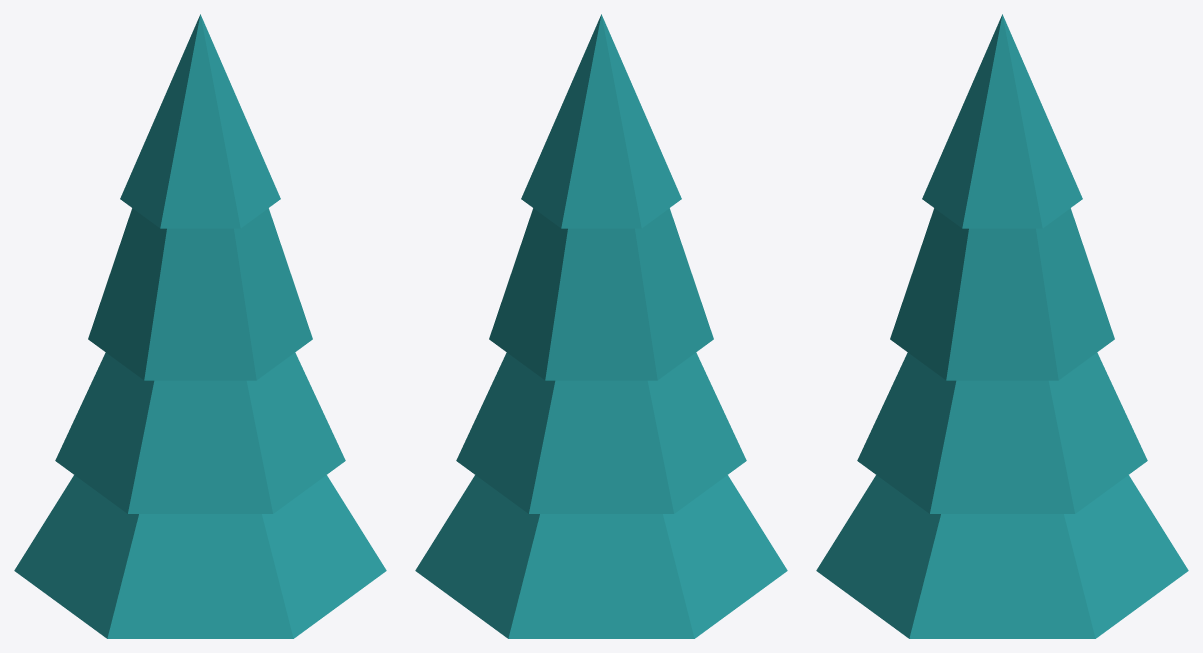
Rendered from tree_pineGroundA.fbx.
3 views of the same model, side by side, from view 1: azimuth 30°, elevation 25°; view 2: azimuth 150°, elevation 25°; view 3: azimuth 270°, elevation 25° (orthographic).
Visible parts, largest first — view 1: tree_pineGroundA; view 2: tree_pineGroundA; view 3: tree_pineGroundA.
Part boxes in pixels (<box>): tree_pineGroundA: <box>14,14,386,638</box>; tree_pineGroundA: <box>415,14,787,638</box>; tree_pineGroundA: <box>816,14,1188,638</box>.
Bounding box in the file's own units: 4.8 × 9.14 × 5.55.
